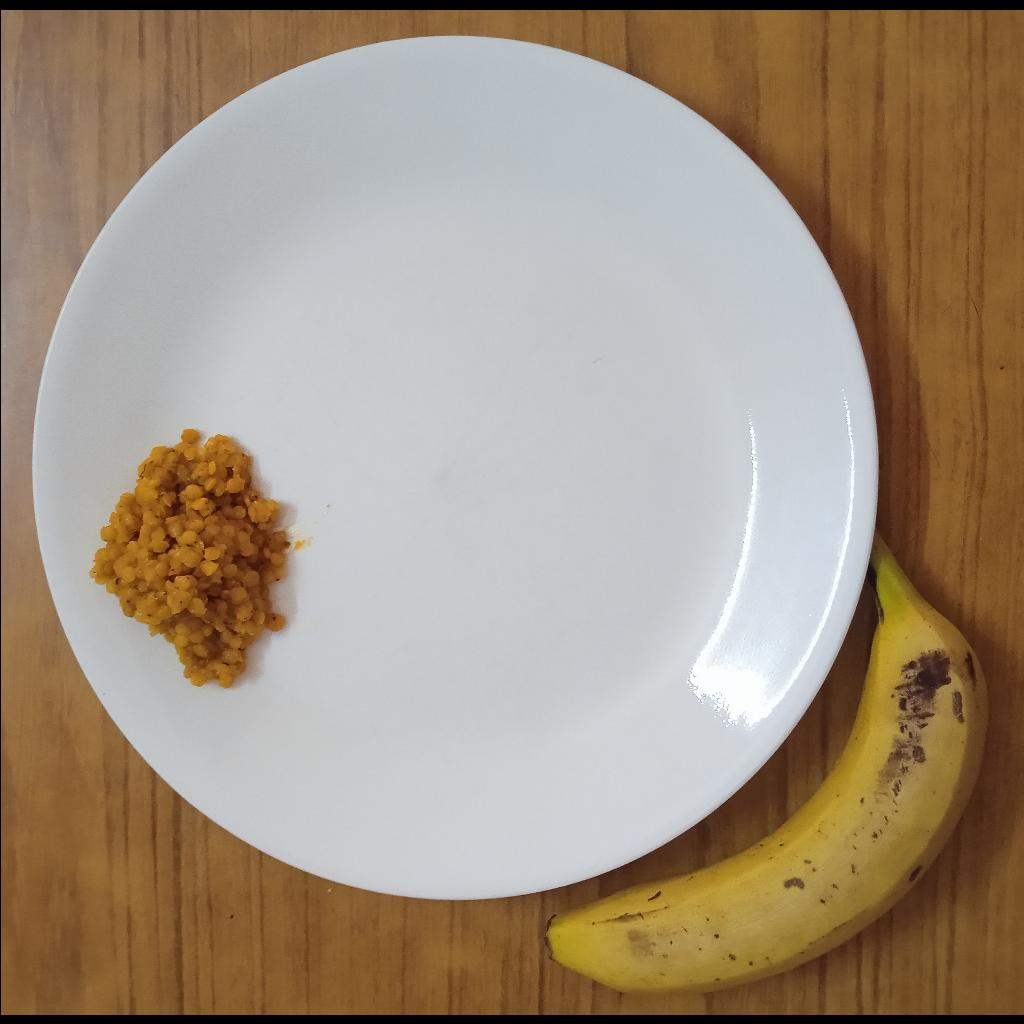banana: (542, 528, 992, 996)
daal: (90, 426, 288, 687)
